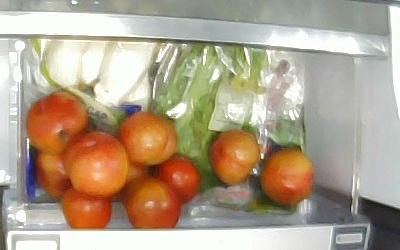prune: (27, 94, 88, 158), (67, 133, 128, 197), (260, 150, 313, 206), (120, 114, 177, 164), (126, 178, 180, 229), (209, 132, 258, 186), (145, 154, 200, 201), (60, 183, 113, 230), (36, 150, 71, 198)
